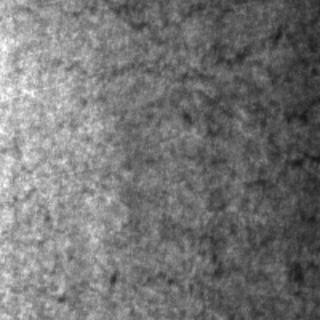crazing: (104, 1, 318, 138), (170, 130, 318, 316)
